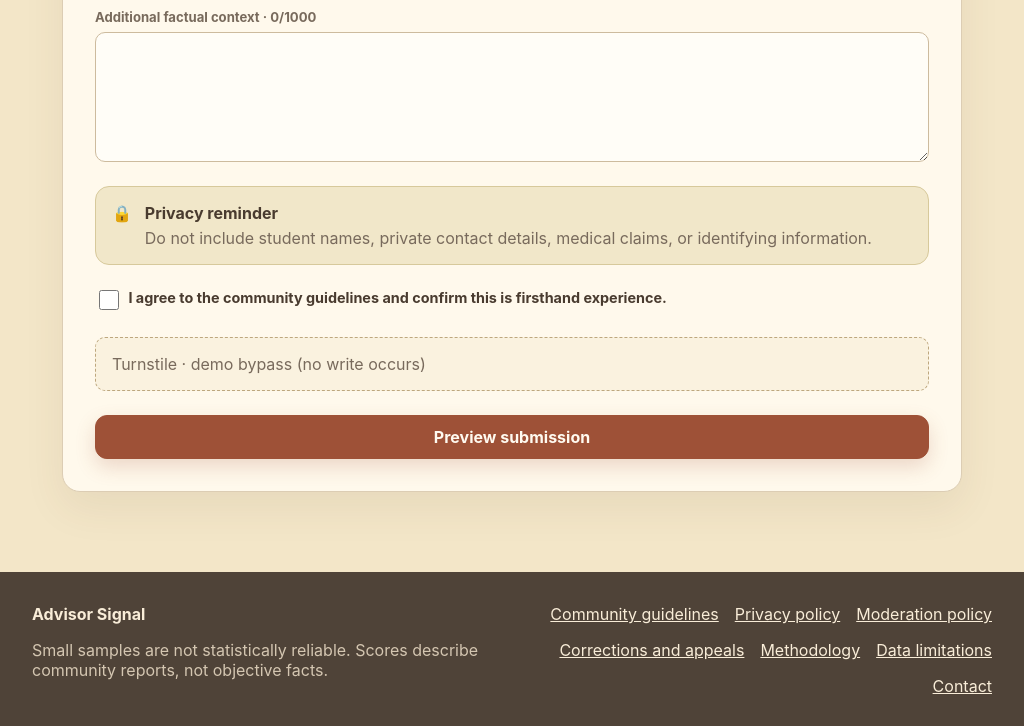
Test: core experience › has labelled form controls and announces validation errors
This screenshot has width=1024, height=726.
(page scrolled)
Click the button "Preview submission": (512, 437) [95,415,929,460]
(page scrolled)
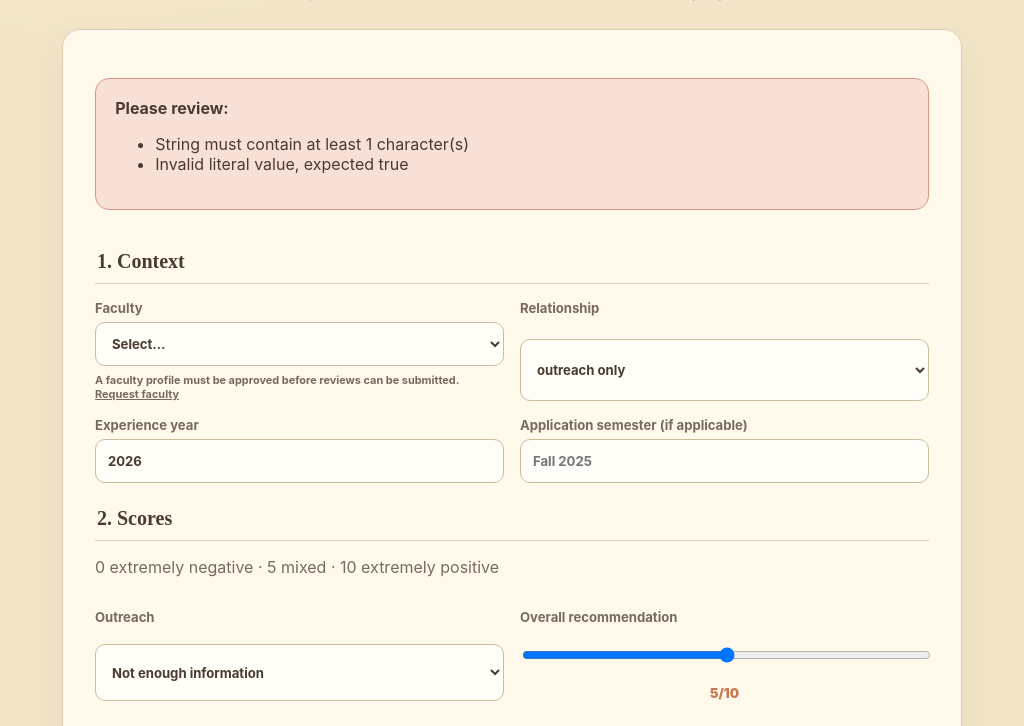
Expected: the dropdown labelled "Faculty" is shown, [95,322,504,366]
Result: the message is shown at [95,78,929,210]
